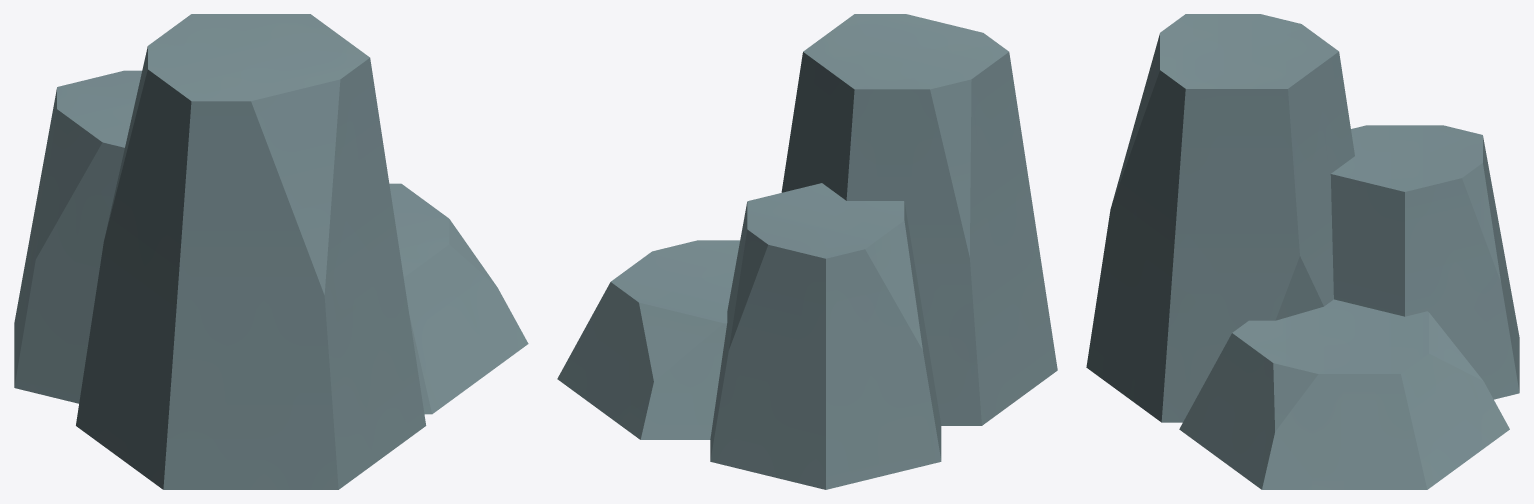
Rendered from rocks.glb.
3 views of the same model, side by side, from view 1: azimuth 30°, elevation 25°; view 2: azimuth 150°, elevation 25°; view 3: azimuth 270°, elevation 25° (orthographic). The views are drawn at different scales.
Visible parts, largest first — view 1: rocks; view 2: rocks; view 3: rocks.
Part boxes in pixels (bbox=[...]): rocks: bbox=[14, 14, 528, 489]; rocks: bbox=[557, 14, 1057, 489]; rocks: bbox=[1086, 14, 1519, 489].
Size of the model in its own units: 0.3919 by 0.32 by 0.3974.
Materials: 1 (1 with a texture image).
